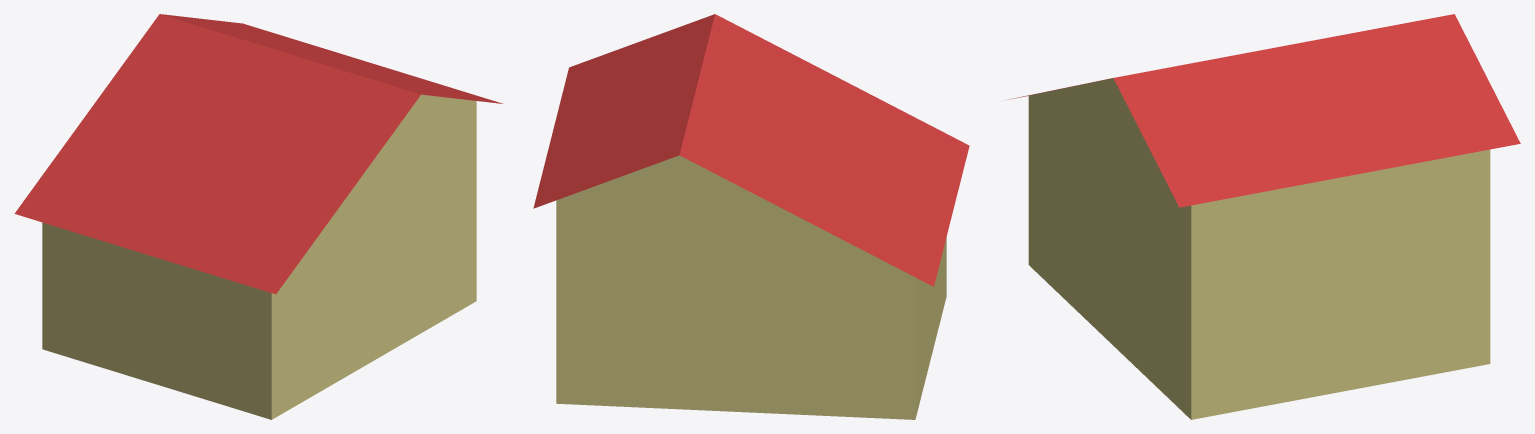
The picture shows the model from 3 angles, left to right: view 1: azimuth 30°, elevation 25°; view 2: azimuth 150°, elevation 25°; view 3: azimuth 270°, elevation 25°; orthographic projection. The views are drawn at different scales.
Bounding box in the file's own units: 18.19 × 16.97 × 10.45.
